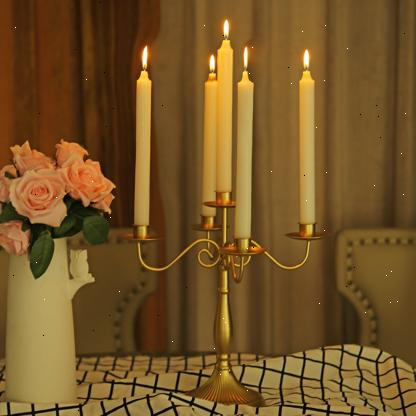fire: (292, 46, 320, 74), (216, 13, 239, 40), (239, 42, 259, 72), (204, 52, 226, 77), (136, 40, 151, 74)
